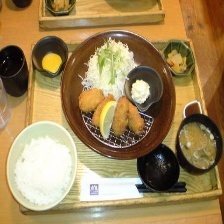rice: (12, 126, 79, 209)
